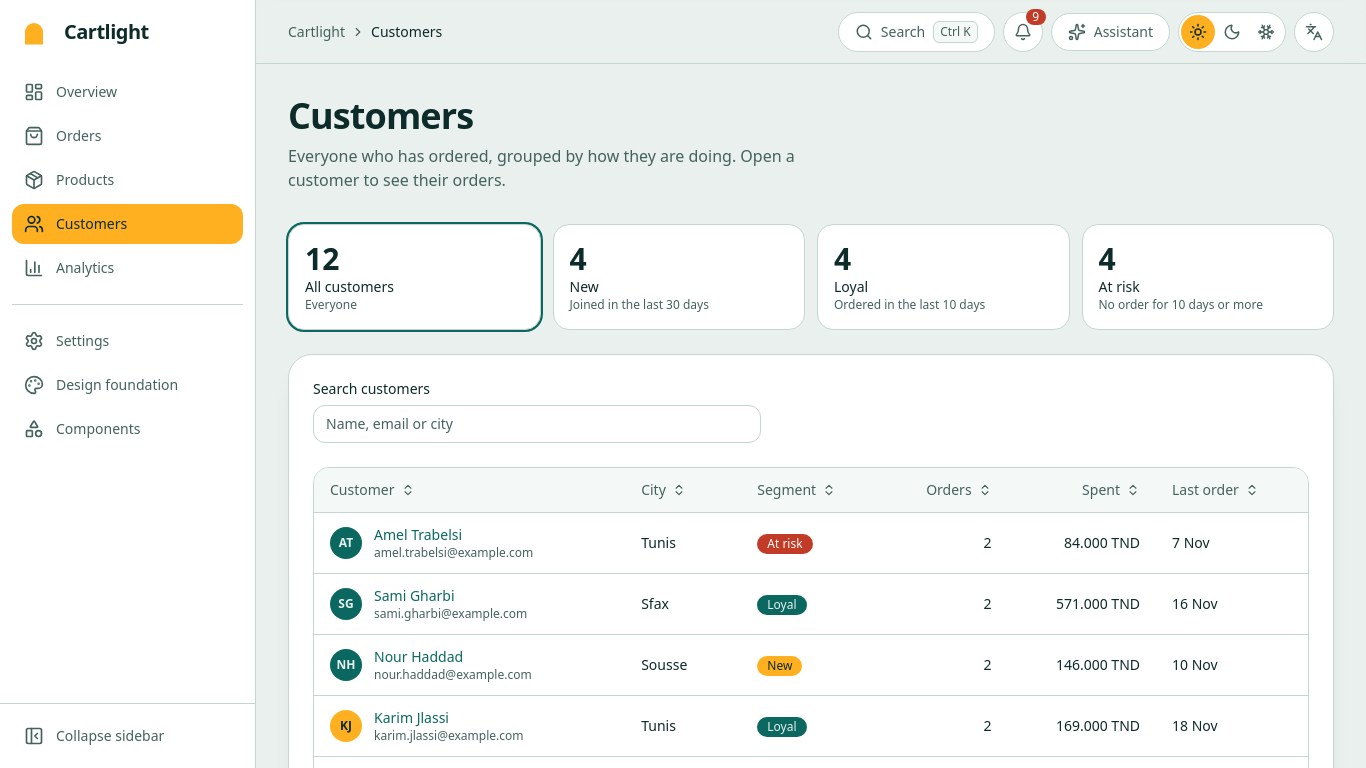
Test: customers page › opens a customer profile from the list
The image size is (1366, 768).
Click the link "Amel Trabelsi" at x=418, y=534, box [374,525,462,544]
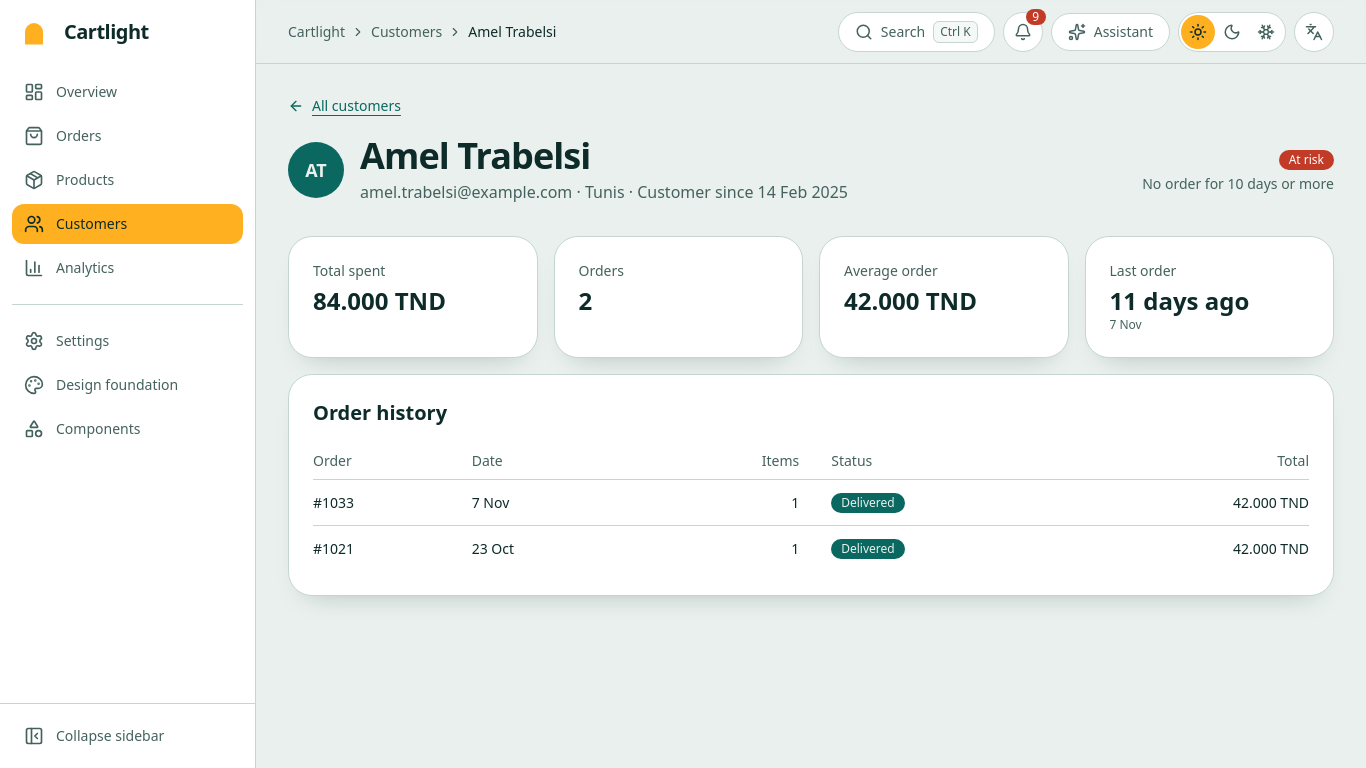
expect the heading "Amel Trabelsi" is shown: met, box [360,131,590,180]
